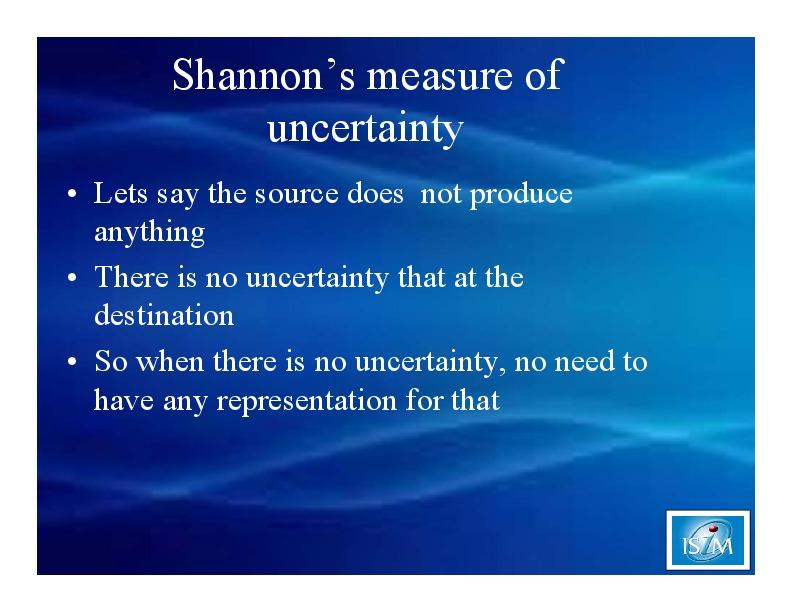paragraph: (56, 174, 676, 427)
title: (163, 46, 573, 155)
